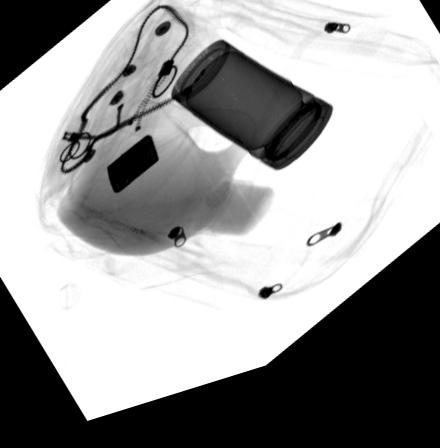Lighter: (106, 142, 159, 201)
